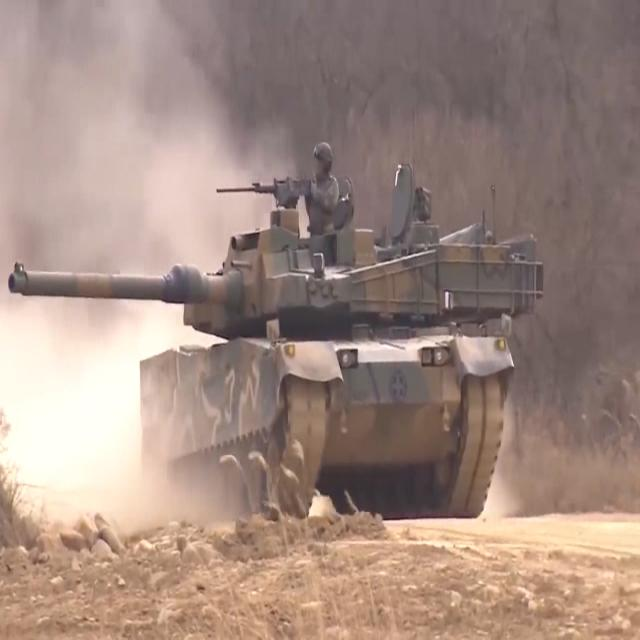korea tank: (7, 141, 547, 518)
